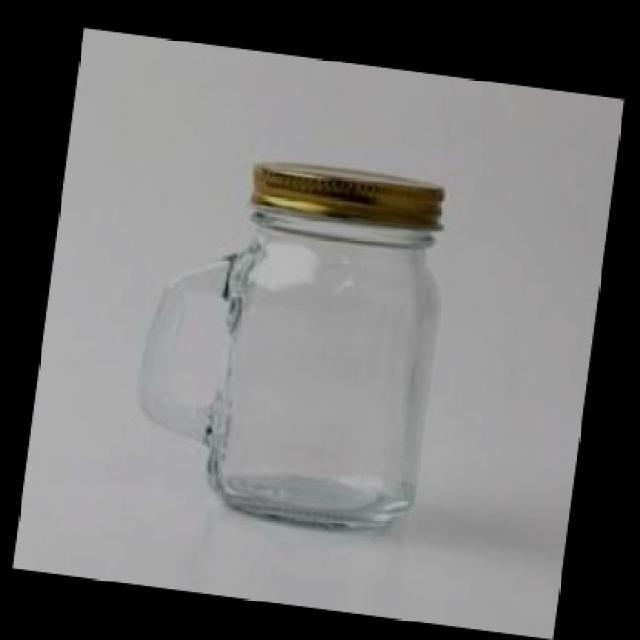Glass: (138, 162, 446, 533)
